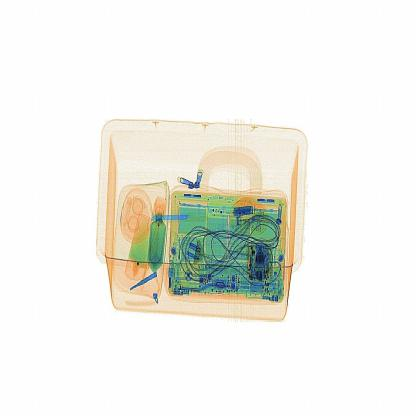pliers: (147, 209, 209, 231)
